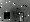person: (22, 10, 28, 21), (5, 10, 11, 19)
